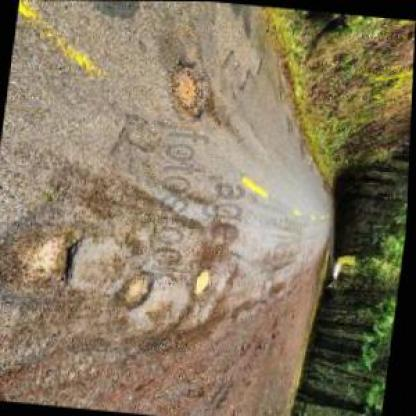pothole: (19, 224, 86, 290), (164, 56, 214, 121), (114, 268, 158, 309), (192, 266, 216, 298)
